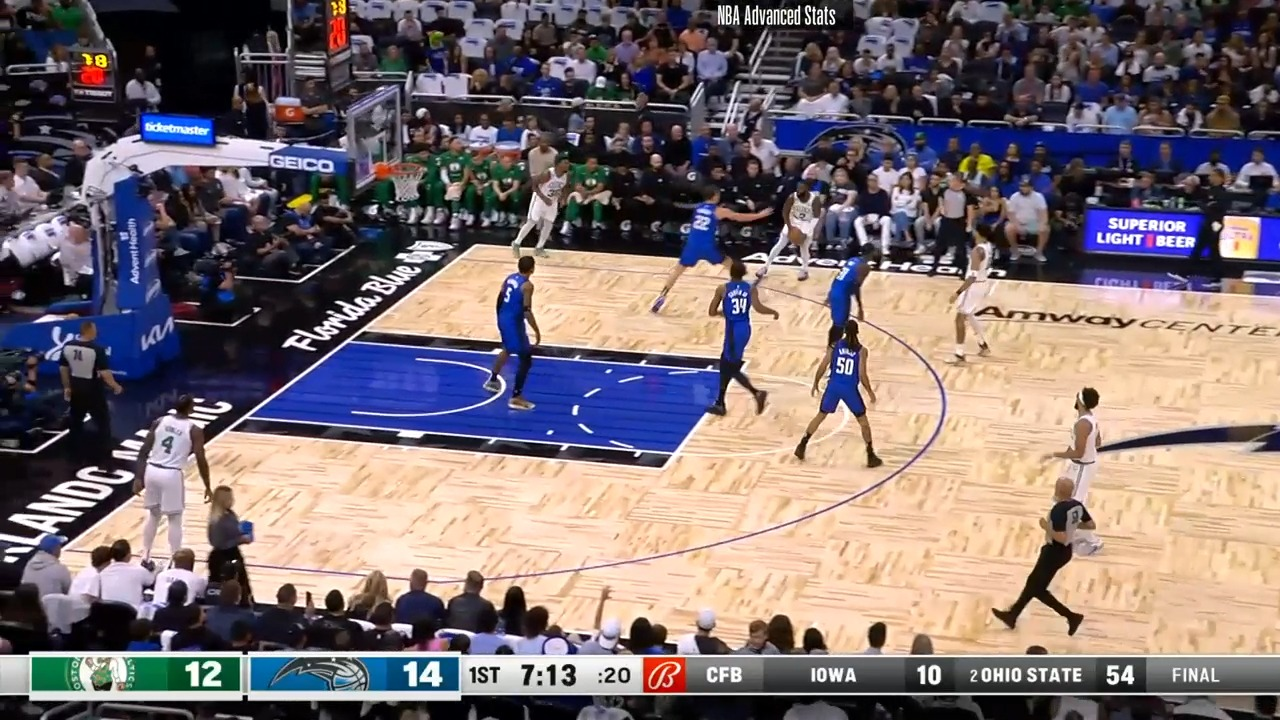net: (372, 156, 430, 205)
player: (132, 392, 218, 569), (654, 187, 762, 319), (796, 321, 889, 468), (1046, 382, 1122, 561), (699, 256, 778, 423), (492, 251, 557, 413), (945, 226, 1006, 368), (820, 244, 886, 359), (751, 178, 820, 284), (516, 151, 577, 267)
referee: (986, 467, 1096, 638), (64, 317, 128, 461), (929, 168, 981, 281)
